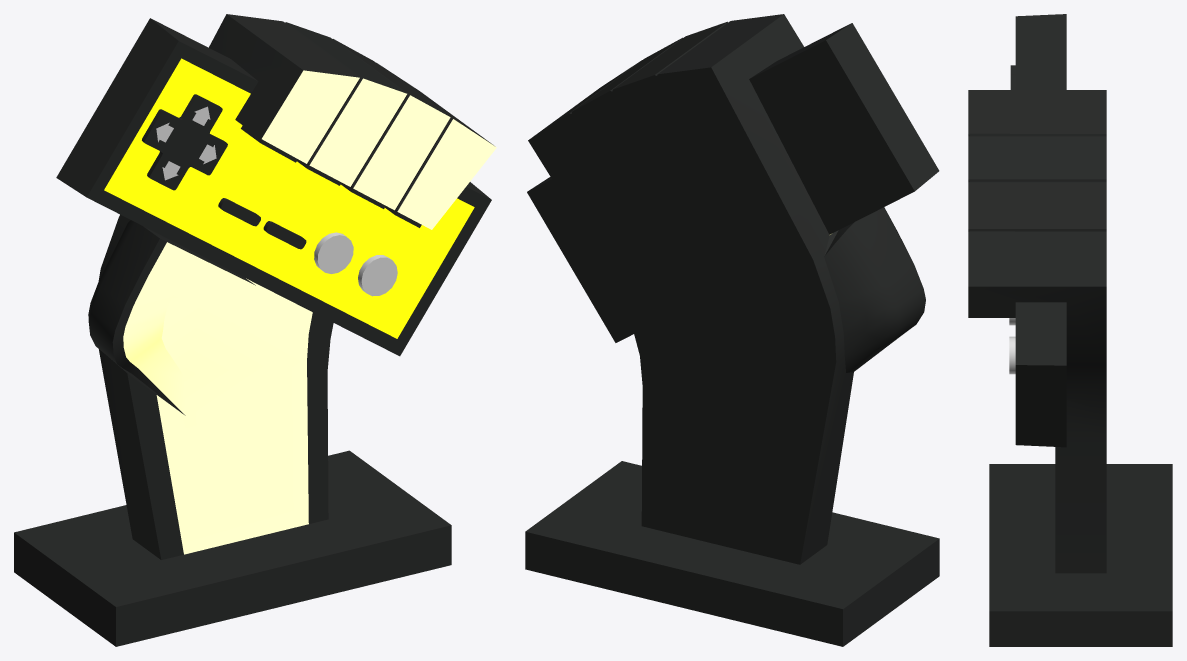
The model's file is GDG_hand.fbx.
3 renders of one model, left to right at view 1: azimuth 30°, elevation 25°; view 2: azimuth 150°, elevation 25°; view 3: azimuth 270°, elevation 25°, orthographic. The views are drawn at different scales.
Visible parts, largest first — view 1: Goethe_Gete; view 2: Goethe_Gete; view 3: Goethe_Gete.
Boxes of the visible parts, x1,y1,x2,y2 form: Goethe_Gete: [14, 14, 496, 646]; Goethe_Gete: [525, 14, 939, 646]; Goethe_Gete: [968, 14, 1172, 646].
Bounding box in the file's own units: 5.11 × 6.89 × 2.45.
